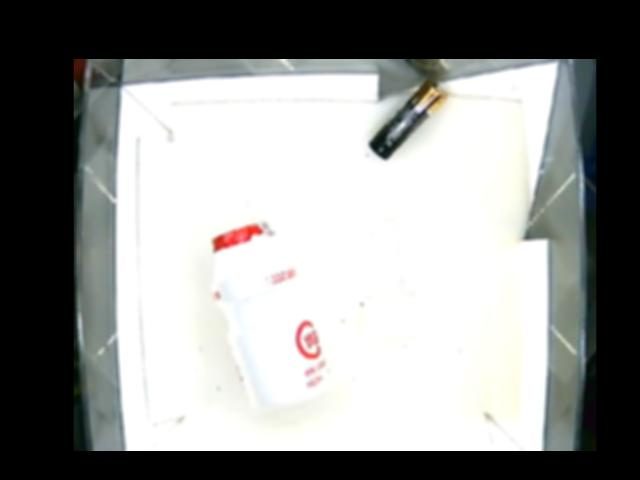Battery: (364, 82, 446, 161)
Bottle: (208, 219, 332, 410), (354, 214, 421, 339)
